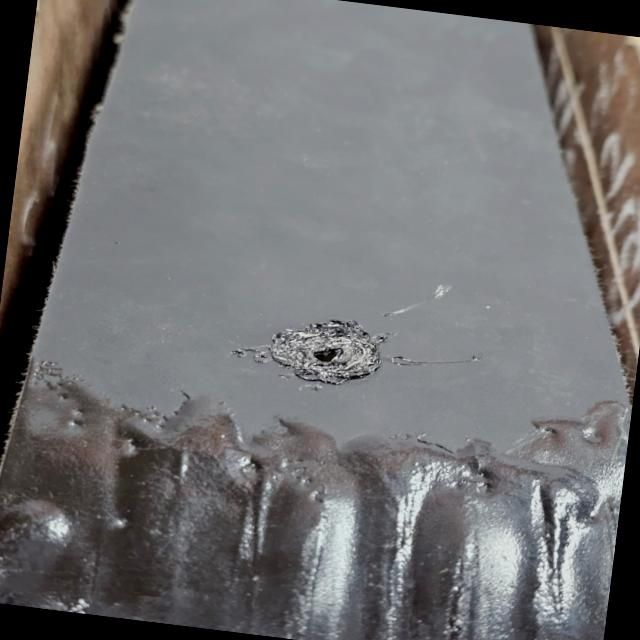Joint_Damage: (0, 368, 628, 640)
crack: (387, 353, 482, 366)
punture: (230, 319, 396, 384), (230, 320, 397, 384), (387, 354, 482, 366)
